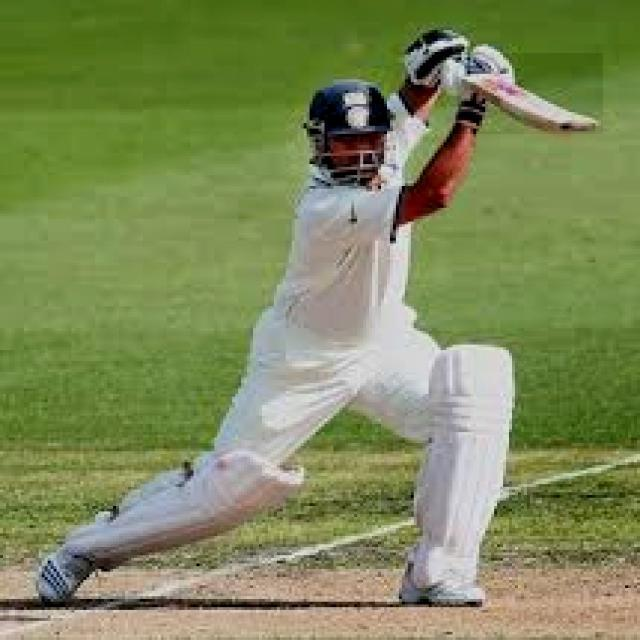bat: (465, 65, 606, 138)
